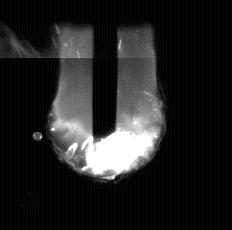arame: (93, 0, 117, 143)
poca: (47, 0, 166, 230)
